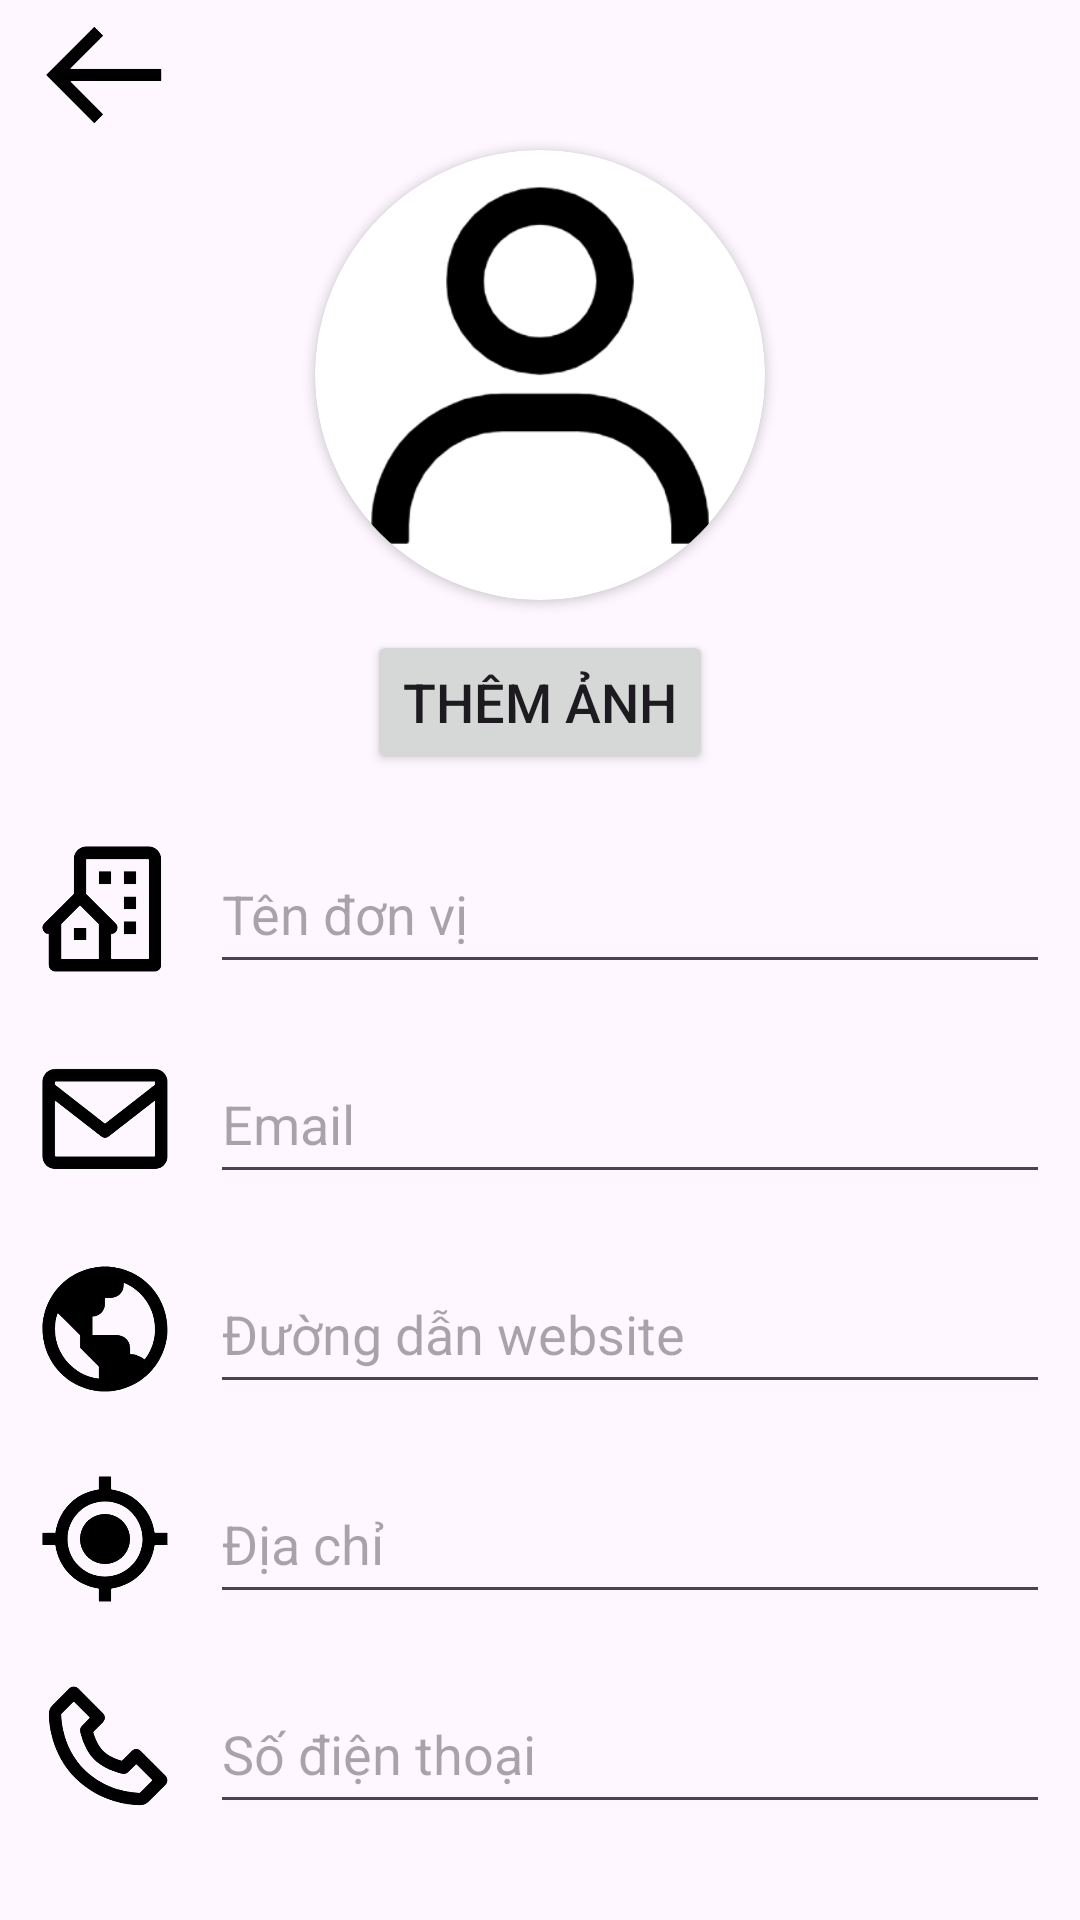

Icon bounding boxes for this 1080×1920 phone screenshot, format detection(x1, y1, x2, y2):
back: detection(46, 27, 162, 123)
building: detection(42, 846, 161, 972)
location: detection(42, 1476, 168, 1602)
phone: detection(49, 1686, 168, 1806)
